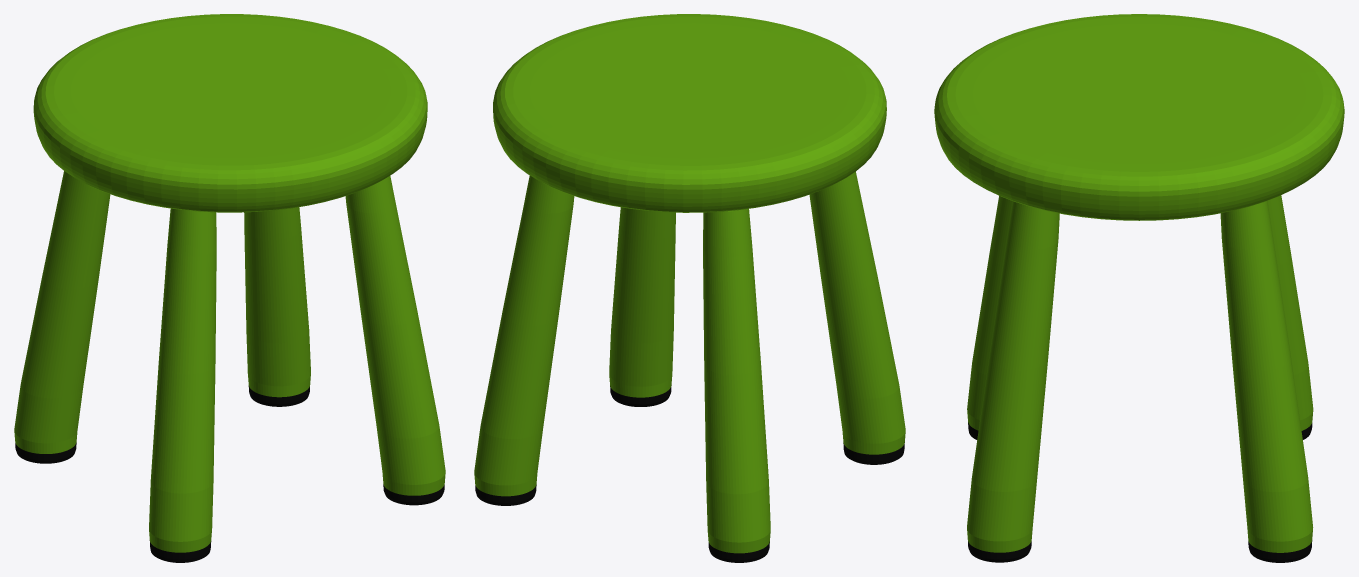
The model's file is green_stool.obj.
3 views of the same model, side by side, from view 1: azimuth 30°, elevation 25°; view 2: azimuth 150°, elevation 25°; view 3: azimuth 270°, elevation 25° (orthographic). The views are drawn at different scales.
Parts seen in each view (by area): view 1: Circle.001; view 2: Circle.001; view 3: Circle.001.
Part boxes in pixels (x1,y1,x2,y2): Circle.001: (14,14,445,562); Circle.001: (474,14,905,562); Circle.001: (934,14,1344,562).
Bounding box in the file's own units: 42.92 × 45.98 × 42.92.
